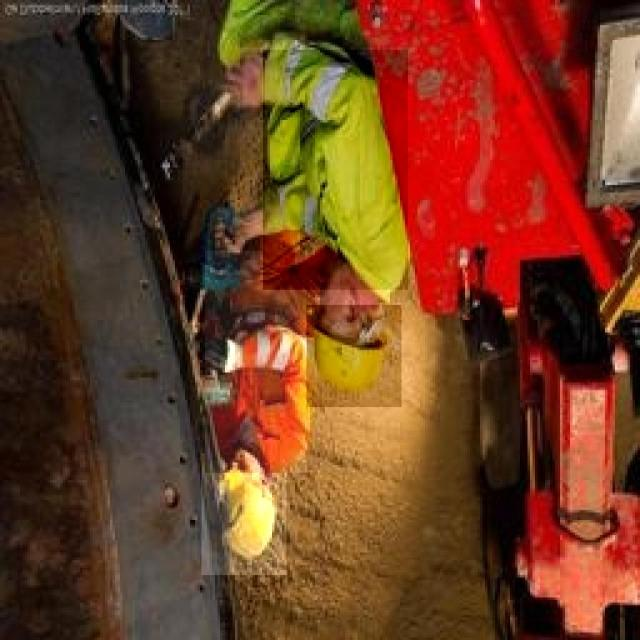Helmet: (264, 50, 408, 290), (205, 251, 307, 473), (292, 305, 402, 407), (202, 453, 287, 575)
